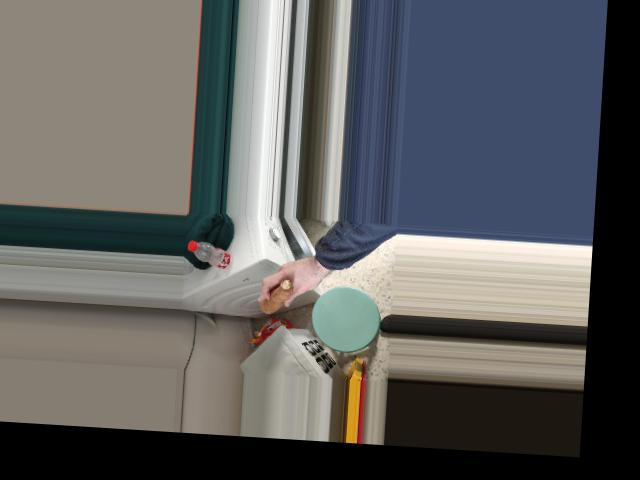sweet_potato: (256, 273, 298, 314)
